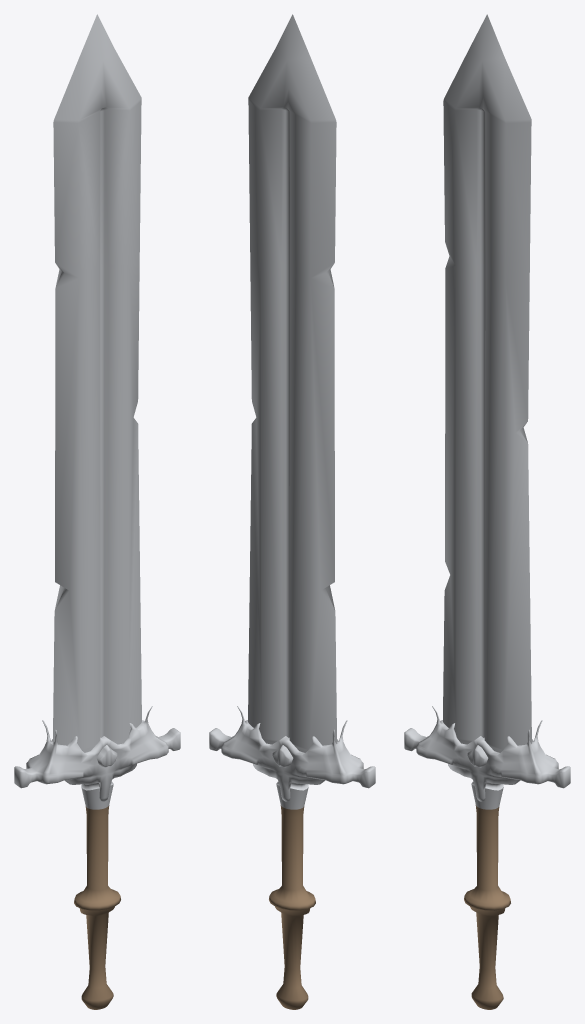
Rendered from weapon_echo_blade_4.glb.
3 views of the same model, side by side, from view 1: azimuth 30°, elevation 25°; view 2: azimuth 150°, elevation 25°; view 3: azimuth 330°, elevation 25° (orthographic).
Visible parts, largest first — view 1: echo_blade_4; view 2: echo_blade_4; view 3: echo_blade_4.
Part boxes in pixels (box(x1,y1,x2,y2)): echo_blade_4: box(14, 14, 180, 1009); echo_blade_4: box(209, 14, 375, 1009); echo_blade_4: box(404, 14, 570, 1009).
Bounding box in the file's own units: 0.1953 × 1.15 × 0.0506.
